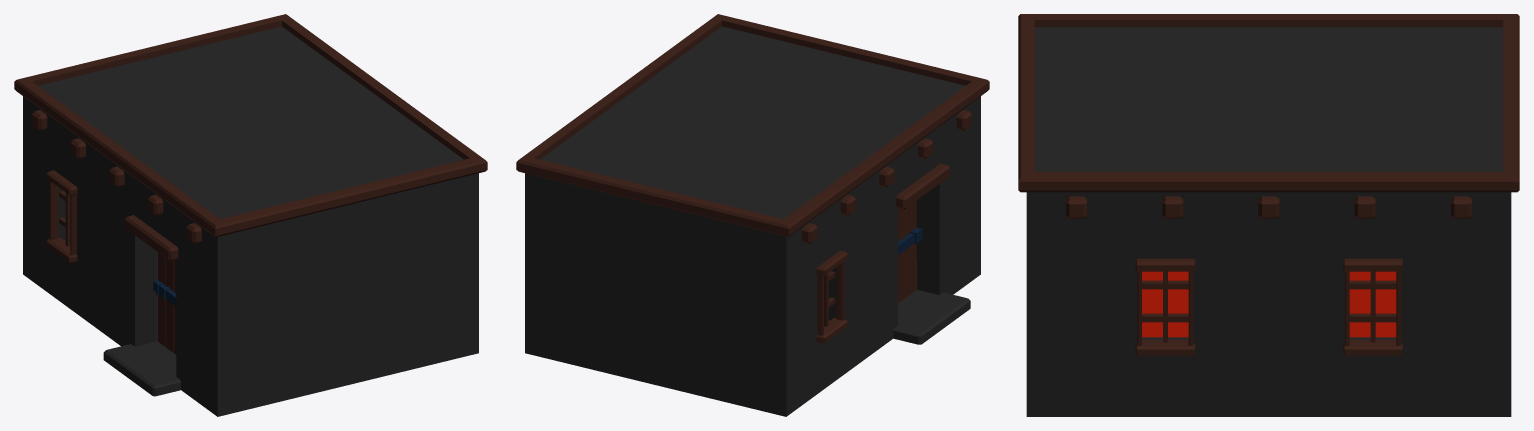
Rendered from civilian_house_39_d.FBX.
3 views of the same model, side by side, from view 1: azimuth 30°, elevation 25°; view 2: azimuth 150°, elevation 25°; view 3: azimuth 270°, elevation 25° (orthographic). The views are drawn at different scales.
Visible parts, largest first — view 1: civilian_house_39_d; view 2: civilian_house_39_d; view 3: civilian_house_39_d.
Part boxes in pixels (<box>): civilian_house_39_d: <box>14,14,487,416</box>; civilian_house_39_d: <box>516,14,989,416</box>; civilian_house_39_d: <box>1018,14,1519,416</box>.
Bounding box in the file's own units: 528 × 330 × 620.
